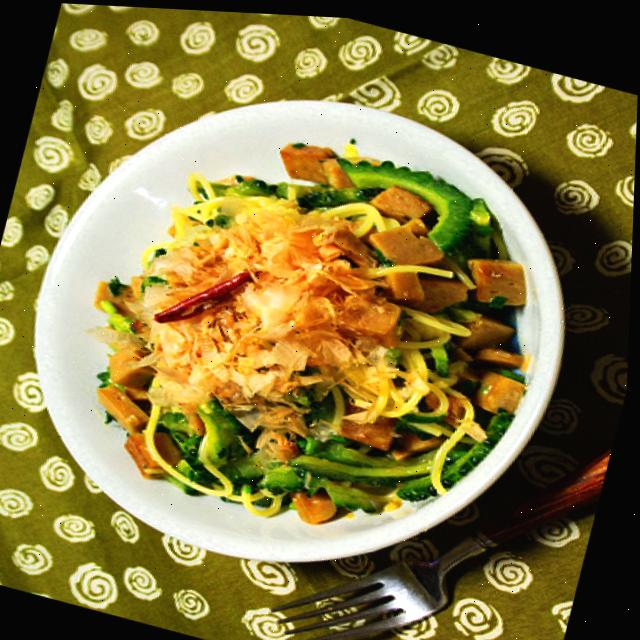熟制海鲜: (0, 39, 599, 627)
